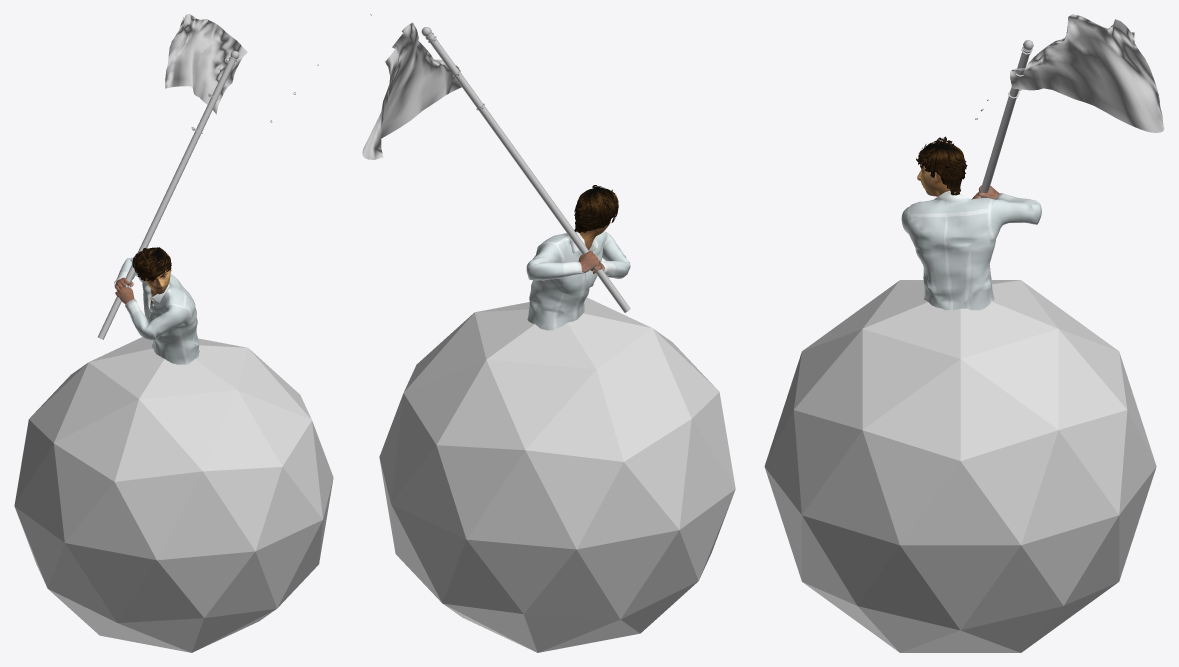
File: oren_flag_blender.fbx_Scene.fbx
3 views of the same model, side by side, from view 1: azimuth 30°, elevation 25°; view 2: azimuth 150°, elevation 25°; view 3: azimuth 270°, elevation 25° (orthographic). The views are drawn at different scales.
Parts seen in each view (by area): view 1: Icosphere, Object_12, Tops, FlagPole_FlagPole1_0, Object001; view 2: Icosphere, Tops, Object_12, FlagPole_FlagPole1_0, Object001; view 3: Icosphere, Tops, Object_12, Object001, FlagPole_FlagPole1_0.
Boxes of the visible parts, left/top/right/bottom form: Icosphere: left=14, top=337, right=333, bottom=652; Object_12: left=165, top=14, right=247, bottom=114; Tops: left=114, top=257, right=199, bottom=364; FlagPole_FlagPole1_0: left=98, top=51, right=239, bottom=339; Object001: left=132, top=247, right=171, bottom=281; Icosphere: left=379, top=297, right=735, bottom=652; Tops: left=526, top=231, right=630, bottom=330; Object_12: left=362, top=22, right=461, bottom=159; FlagPole_FlagPole1_0: left=421, top=27, right=630, bottom=312; Object001: left=574, top=185, right=618, bottom=232; Icosphere: left=764, top=280, right=1156, bottom=652; Tops: left=901, top=191, right=1041, bottom=310; Object_12: left=1010, top=14, right=1164, bottom=132; Object001: left=916, top=136, right=967, bottom=195; FlagPole_FlagPole1_0: left=980, top=40, right=1033, bottom=197.
Size of the model in its own units: 206 by 382 by 204.
